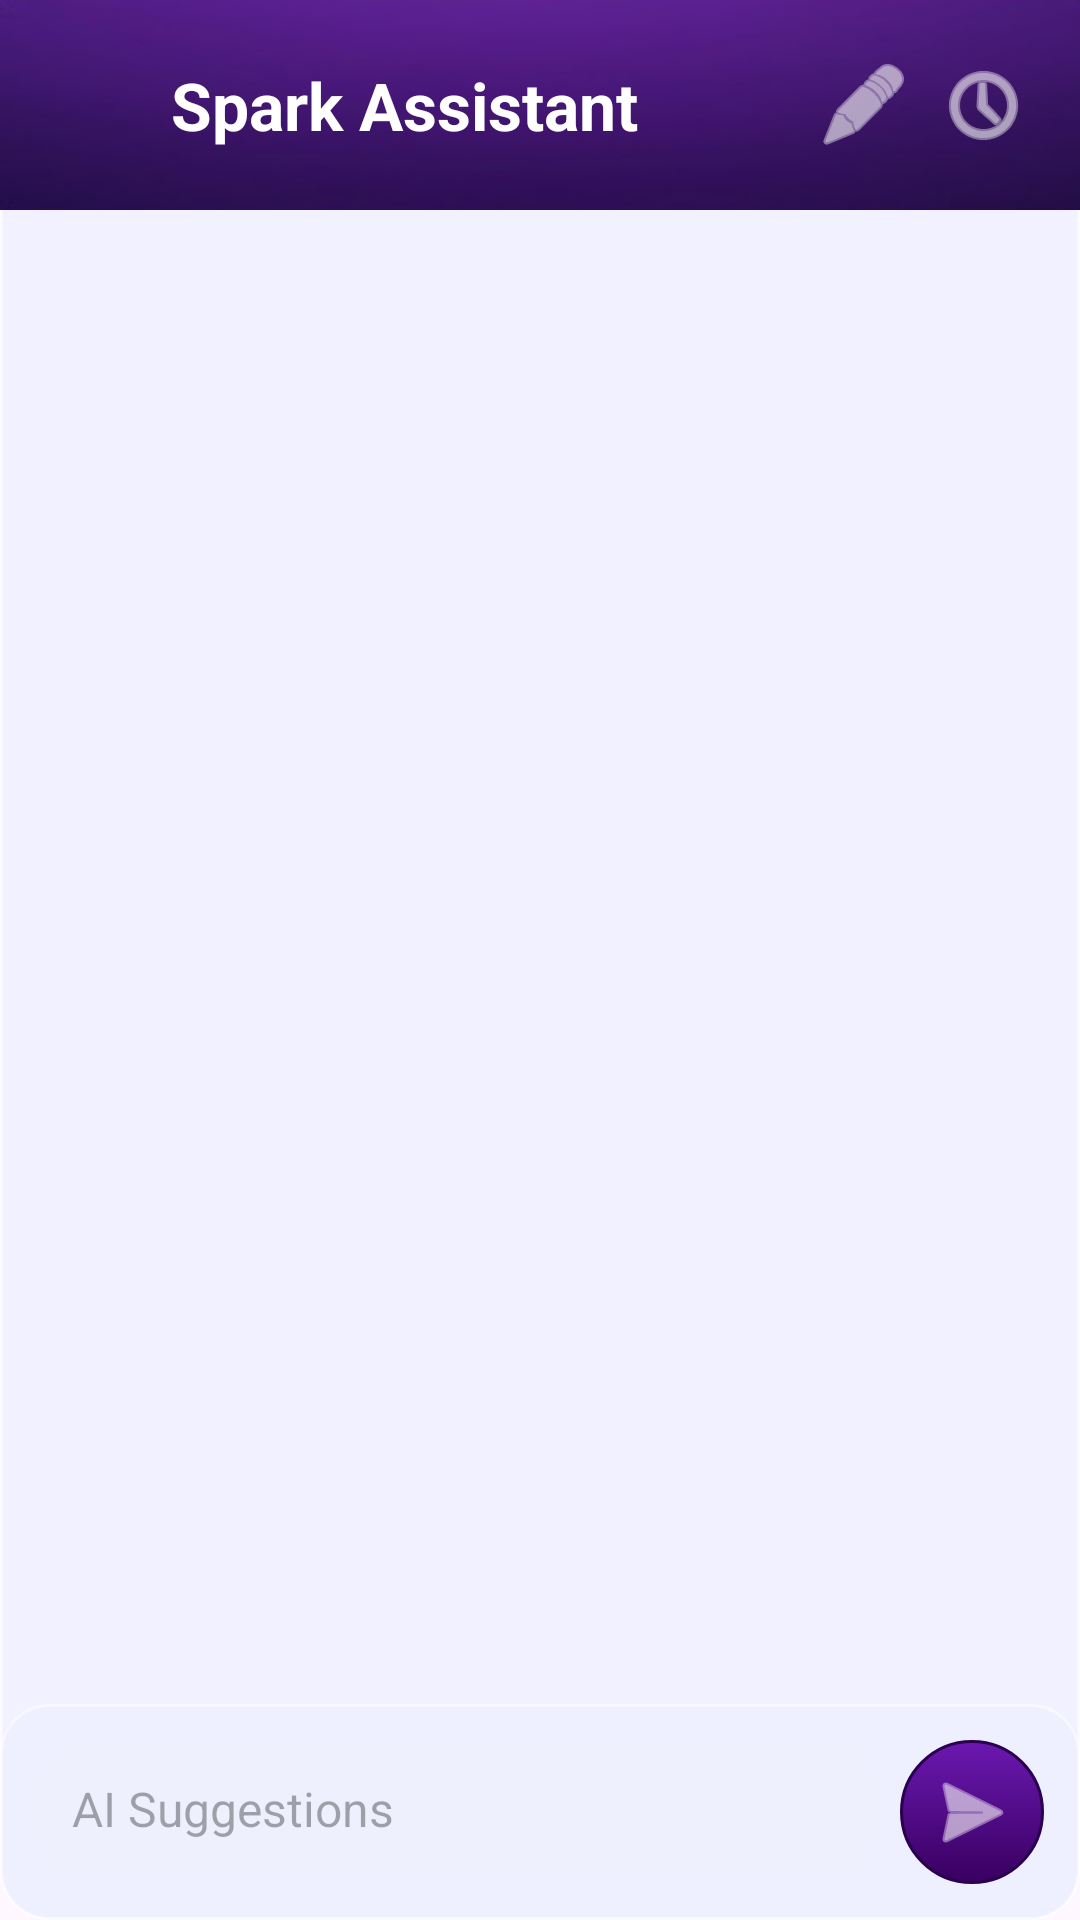

Where icons sit on this 1080px x 1920px app screen, as (x1, y1, x2, y2):
Chat history: (949, 71, 1018, 140)
New chat: (816, 57, 912, 145)
Send Message: (900, 1740, 1044, 1884)
